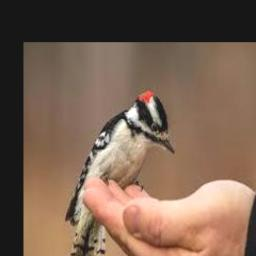Woodpecker: (65, 89, 175, 256)
